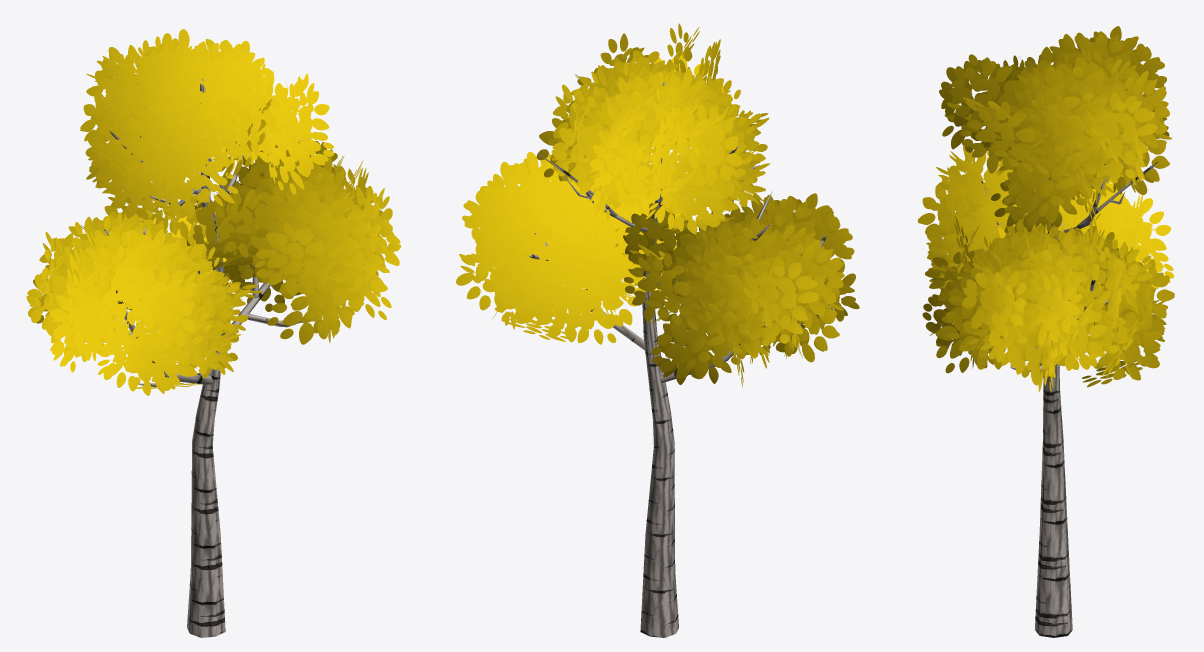
Rendered from birch_2.glb.
3 renders of one model, left to right at view 1: azimuth 30°, elevation 25°; view 2: azimuth 150°, elevation 25°; view 3: azimuth 270°, elevation 25°, orthographic.
Visible parts, largest first — view 1: BirchTree_4; view 2: BirchTree_4; view 3: BirchTree_4.
Part boxes in pixels (x1,y1,x2,y2): BirchTree_4: [26, 29, 400, 637]; BirchTree_4: [456, 23, 859, 637]; BirchTree_4: [917, 26, 1174, 637].
Size of the model in its own units: 2.78 by 4.21 by 1.84.
Materials: 2 (2 with a texture image).
